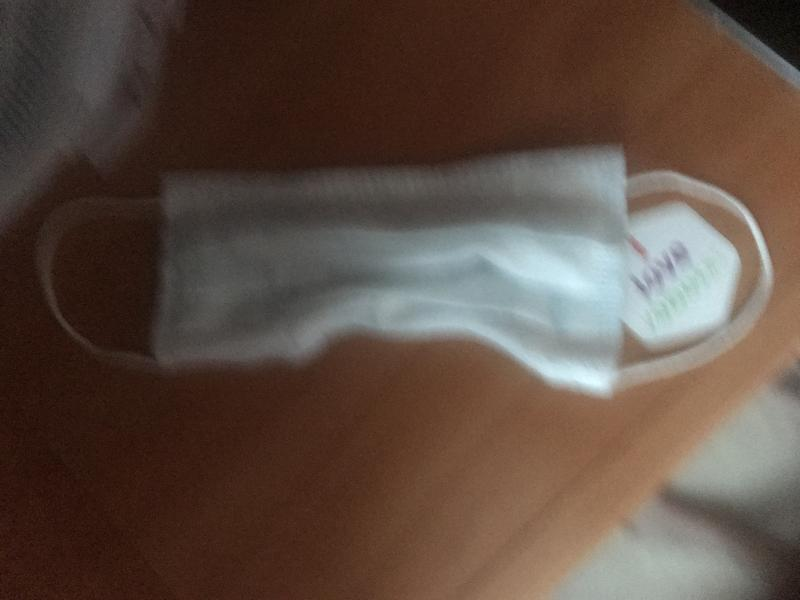medical_mask: (37, 153, 773, 397)
